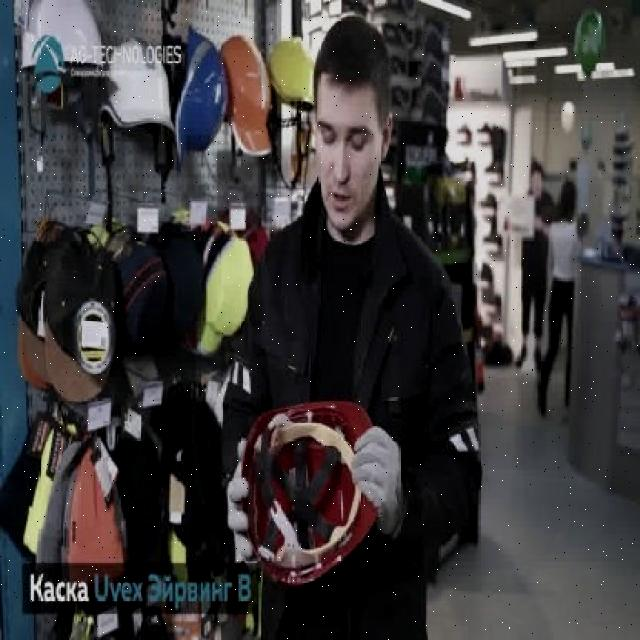Gloves: (351, 426, 404, 536), (227, 434, 256, 564)
Helmet: (238, 398, 382, 592), (174, 24, 231, 182), (96, 32, 176, 136), (18, 0, 108, 80), (216, 34, 273, 154), (266, 34, 320, 111)
